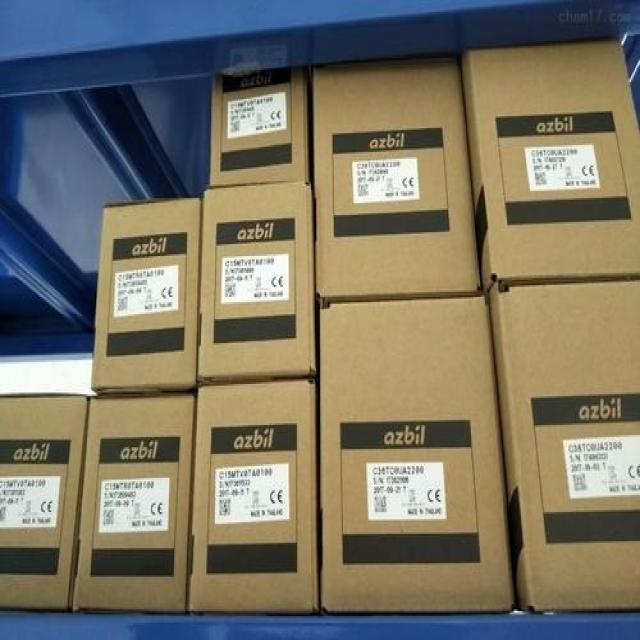box: (314, 292, 516, 613), (486, 276, 639, 614), (461, 40, 639, 293), (311, 53, 485, 302), (188, 380, 320, 614), (70, 394, 195, 614), (197, 183, 317, 384), (90, 199, 201, 395), (0, 396, 90, 610), (210, 69, 312, 186)
